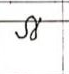i_matra: (28, 15, 37, 40)
